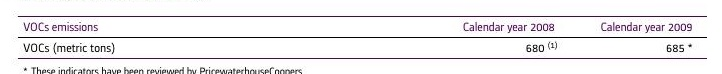table: (0, 0, 722, 74)
